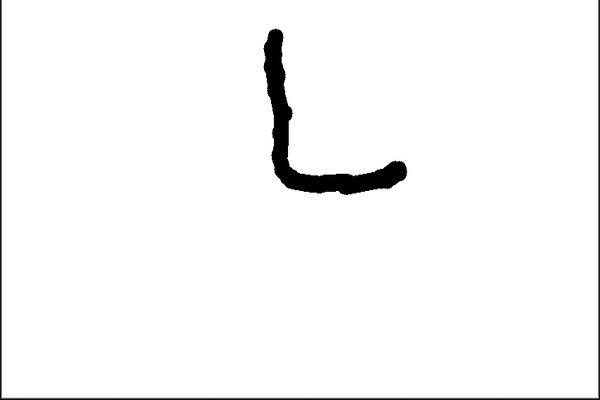L: (254, 22, 414, 198)
